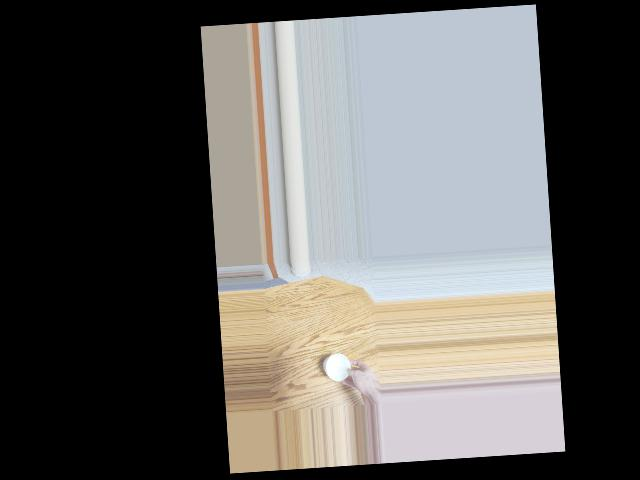cotage: (323, 347, 353, 382)
